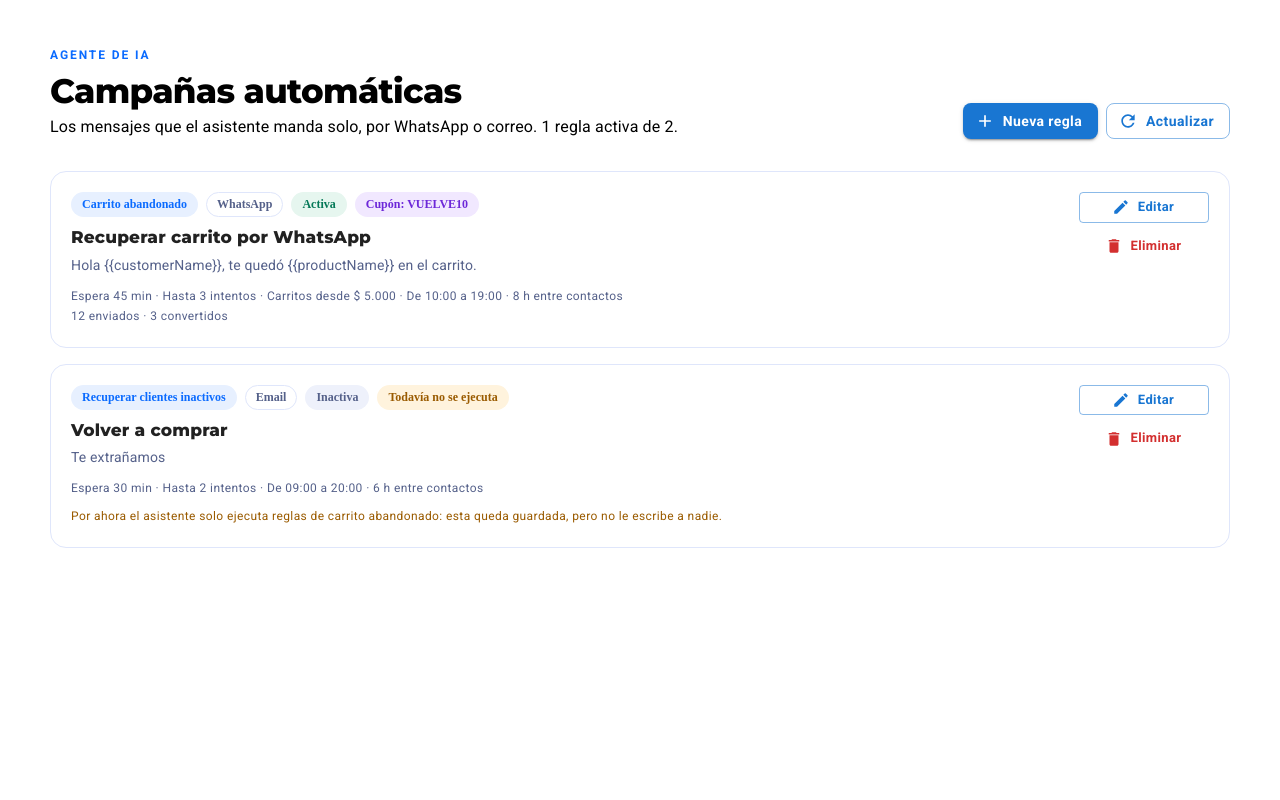
Scenario: Campañas · crear y editar › editar abre la regla con sus datos y manda su id
Click the button "Editar" in the row of "Cupón: VUELVE10" at (1144, 207), box [1079,192,1209,223]
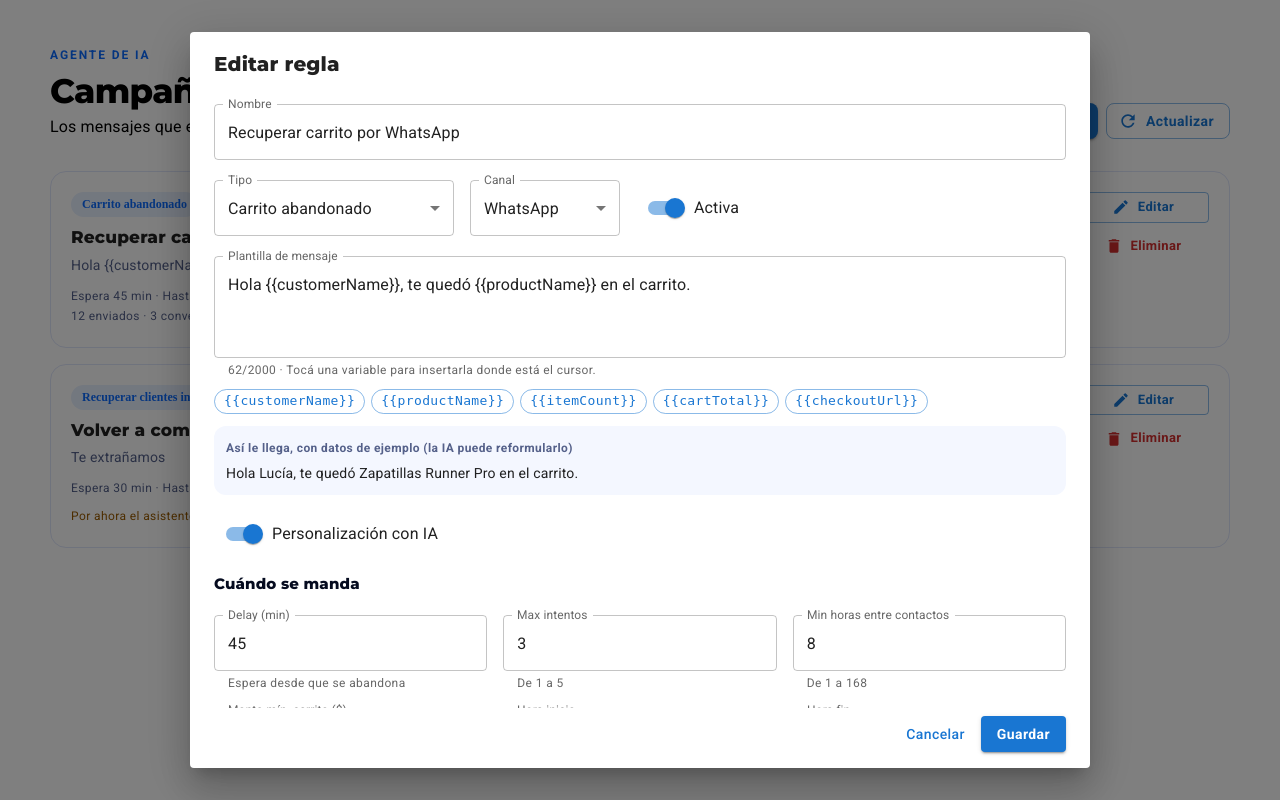
Expected: the heading "Editar regla" is shown, [214,52,340,76]
Expected: the field labelled "Nombre" holds "Recuperar carrito por WhatsApp"
Replace the text in the field labelled "Nombre" with "Carrito v2" at (640, 132), box [214,104,1066,160]
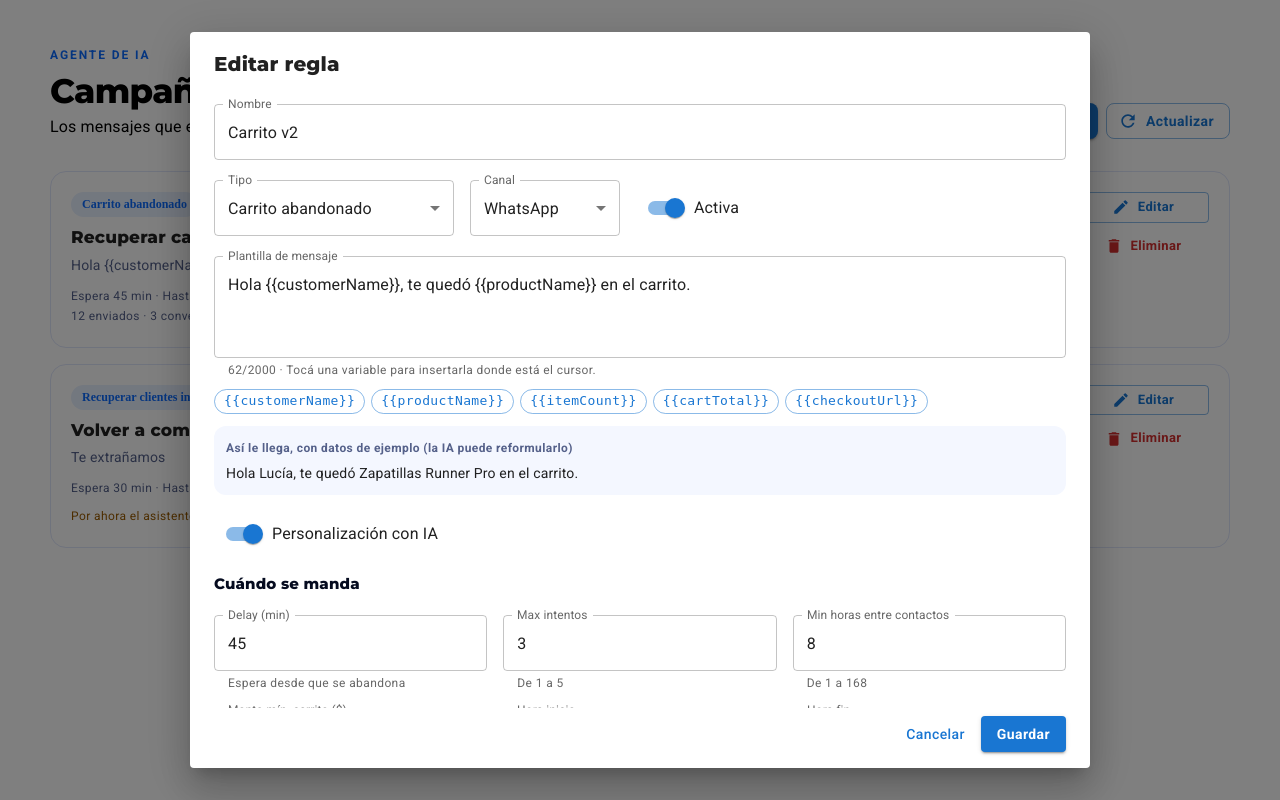
Click the button "Guardar" at (1023, 734), box [981,716,1066,752]
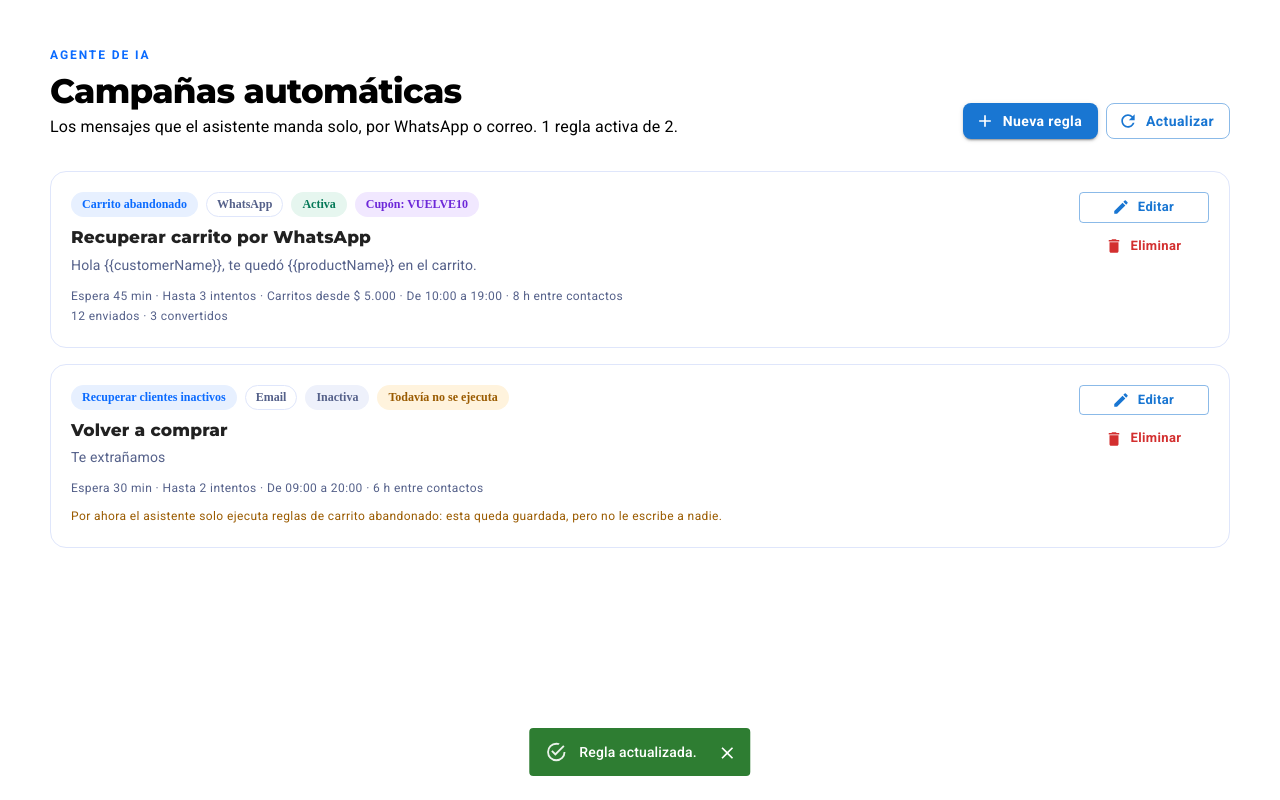
Expected: the text "Regla actualizada." is shown, [579,744,697,760]
